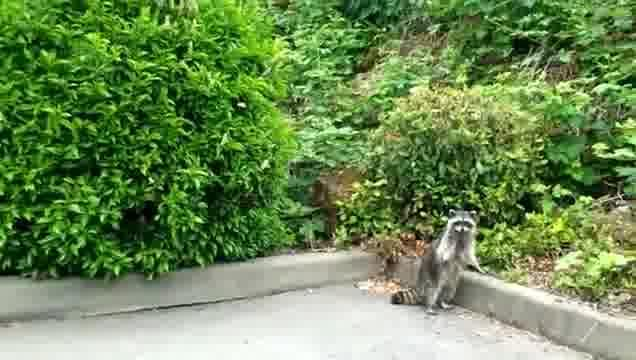raccoon: (390, 208, 489, 316)
